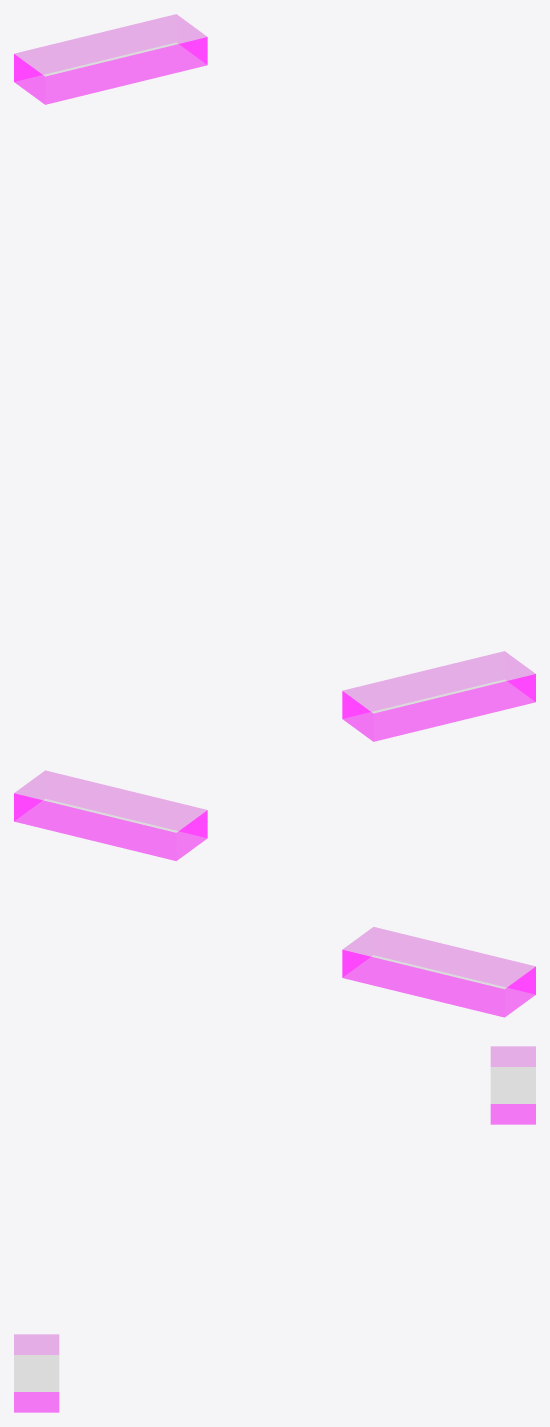
The model's file is (2)M GChanger.fbx.
3 views of the same model, one above another, from view 1: azimuth 30°, elevation 25°; view 2: azimuth 150°, elevation 25°; view 3: azimuth 270°, elevation 25° (orthographic). The views are drawn at different scales.
Parts seen in each view (by area): view 1: Xjump.002, Xjump.003; view 2: Xjump.002, Xjump.003; view 3: Xjump.002, Xjump.003.
Boxes of the visible parts, x1,y1,x2,y2 form: Xjump.002: (342,651,535,741); Xjump.003: (14,14,207,104); Xjump.002: (342,927,535,1017); Xjump.003: (14,770,207,860); Xjump.002: (14,1334,59,1412); Xjump.003: (490,1046,535,1124).
Size of the model in its own units: 600 by 1500 by 2300.
